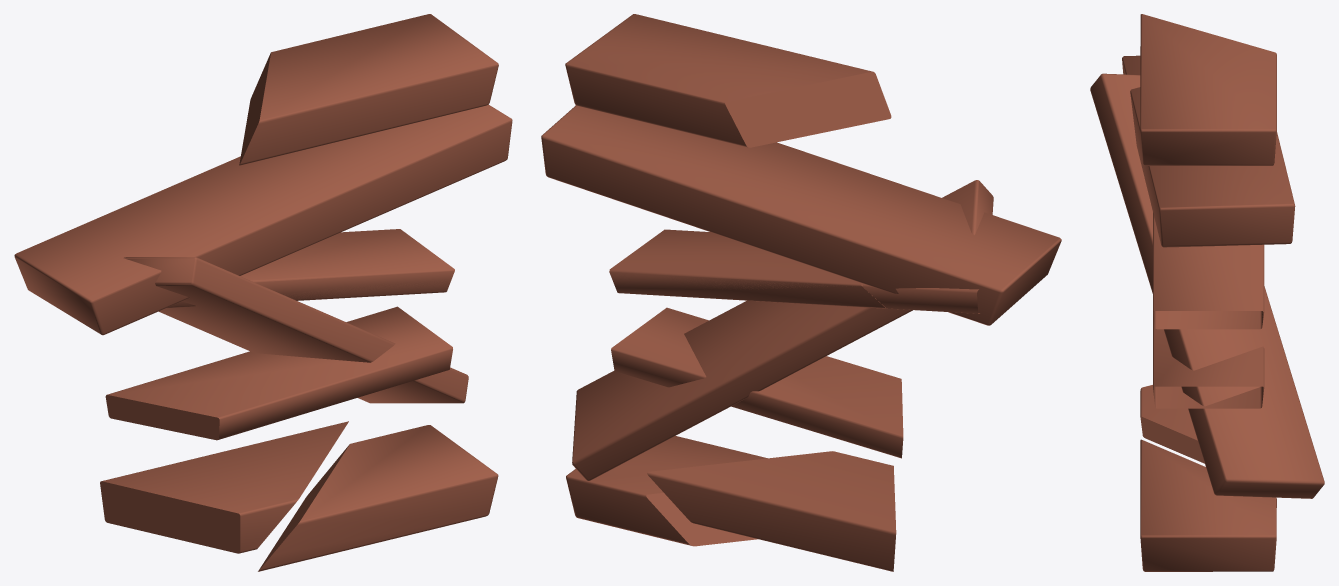
The model's file is bookcaseWide_destroyedVersion.fbx.
The picture shows the model from 3 angles, left to right: view 1: azimuth 30°, elevation 25°; view 2: azimuth 150°, elevation 25°; view 3: azimuth 270°, elevation 25°; orthographic projection.
Visible parts, largest first — view 1: bookcaseWide_broken_cell.002, bookcaseWide_broken_cell.006, bookcaseWide_broken_cell.003, bookcaseWide_broken_cell.005, bookcaseWide_broken_cell.010, bookcaseWide_broken_cell, bookcaseWide_broken_cell.009, bookcaseWide_broken_cell.008; view 2: bookcaseWide_broken_cell.002, bookcaseWide_broken_cell.006, bookcaseWide_broken_cell, bookcaseWide_broken_cell.010, bookcaseWide_broken_cell.003, bookcaseWide_broken_cell.009, bookcaseWide_broken_cell.005, bookcaseWide_broken_cell.007, bookcaseWide_broken_cell.008; view 3: bookcaseWide_broken_cell, bookcaseWide_broken_cell.006, bookcaseWide_broken_cell.005, bookcaseWide_broken_cell.002, bookcaseWide_broken_cell.009, bookcaseWide_broken_cell.003, bookcaseWide_broken_cell.010.
Boxes of the visible parts, box(x1,y1,x2,y2) form: bookcaseWide_broken_cell.002: box(14, 104, 512, 335); bookcaseWide_broken_cell.006: box(239, 14, 498, 165); bookcaseWide_broken_cell.003: box(105, 306, 452, 440); bookcaseWide_broken_cell.005: box(258, 425, 498, 571); bookcaseWide_broken_cell.010: box(100, 421, 348, 553); bookcaseWide_broken_cell: box(123, 257, 468, 403); bookcaseWide_broken_cell.009: box(240, 229, 454, 300); bookcaseWide_broken_cell.008: box(169, 270, 454, 306); bookcaseWide_broken_cell.002: box(541, 105, 1061, 325); bookcaseWide_broken_cell.006: box(565, 14, 891, 147); bookcaseWide_broken_cell: box(572, 180, 993, 480); bookcaseWide_broken_cell.010: box(647, 451, 896, 571); bookcaseWide_broken_cell.003: box(611, 307, 903, 458); bookcaseWide_broken_cell.009: box(610, 229, 886, 308); bookcaseWide_broken_cell.005: box(566, 436, 767, 546); bookcaseWide_broken_cell.007: box(609, 272, 978, 313); bookcaseWide_broken_cell.008: box(609, 269, 979, 313); bookcaseWide_broken_cell: box(1090, 73, 1324, 498); bookcaseWide_broken_cell.006: box(1140, 14, 1276, 165); bookcaseWide_broken_cell.005: box(1140, 439, 1276, 571); bookcaseWide_broken_cell.002: box(1122, 55, 1295, 247); bookcaseWide_broken_cell.009: box(1153, 214, 1264, 329); bookcaseWide_broken_cell.003: box(1153, 314, 1264, 408); bookcaseWide_broken_cell.010: box(1140, 385, 1204, 463).
Bounding box in the file's own units: 201 × 193 × 91.66.
